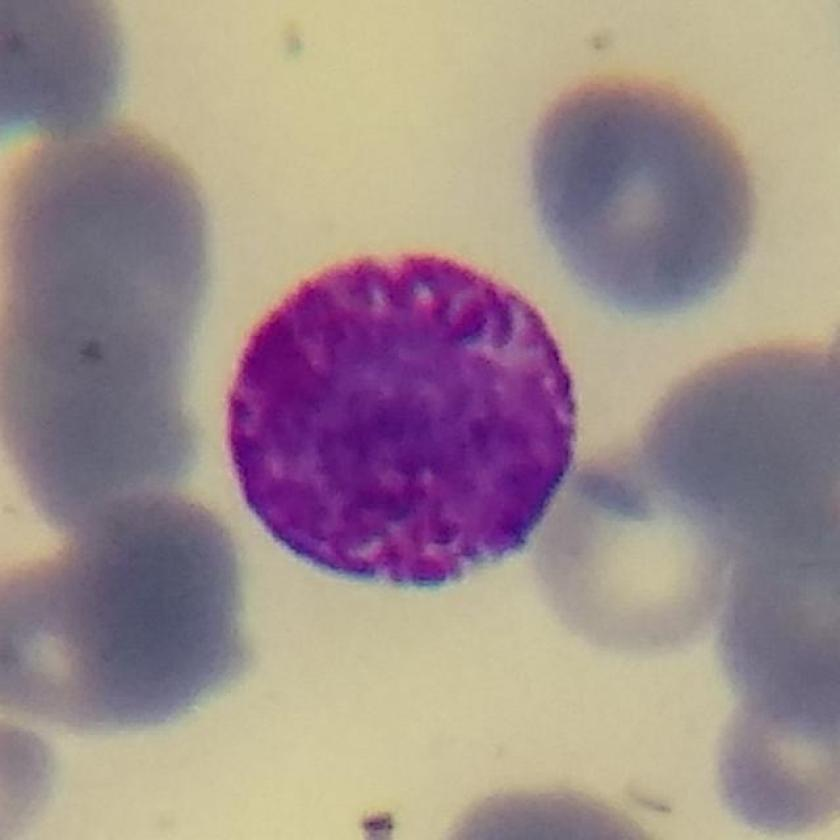basophil: (232, 241, 585, 594)
